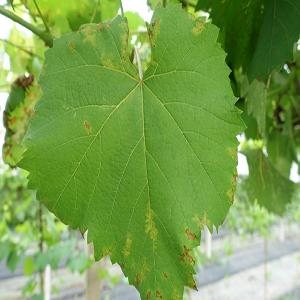Folha: (15, 1, 247, 300)
Fungo: (144, 202, 160, 250), (190, 212, 216, 233), (138, 256, 156, 284), (146, 18, 162, 47), (132, 44, 144, 80), (180, 244, 195, 266), (227, 172, 237, 204), (94, 20, 112, 35), (122, 232, 132, 258), (191, 19, 204, 36), (184, 227, 196, 241), (101, 245, 113, 258), (83, 116, 91, 135), (226, 146, 236, 158), (183, 244, 191, 256), (155, 289, 163, 299), (68, 40, 74, 52), (188, 255, 194, 266), (180, 252, 185, 262), (146, 290, 151, 300), (162, 271, 168, 279), (136, 274, 140, 285), (121, 261, 125, 269)
